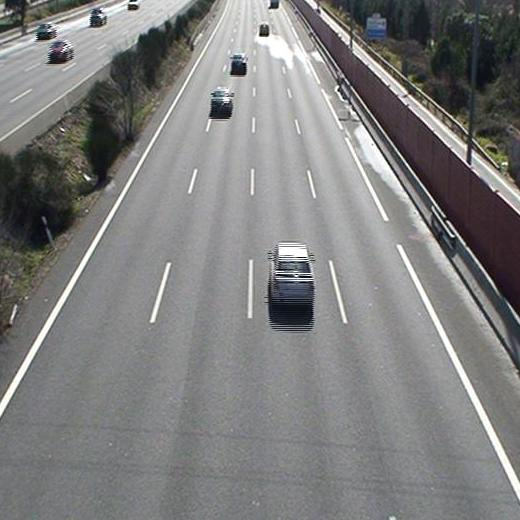car: (268, 244, 316, 319), (209, 87, 233, 117), (230, 53, 248, 74), (259, 23, 269, 36)
